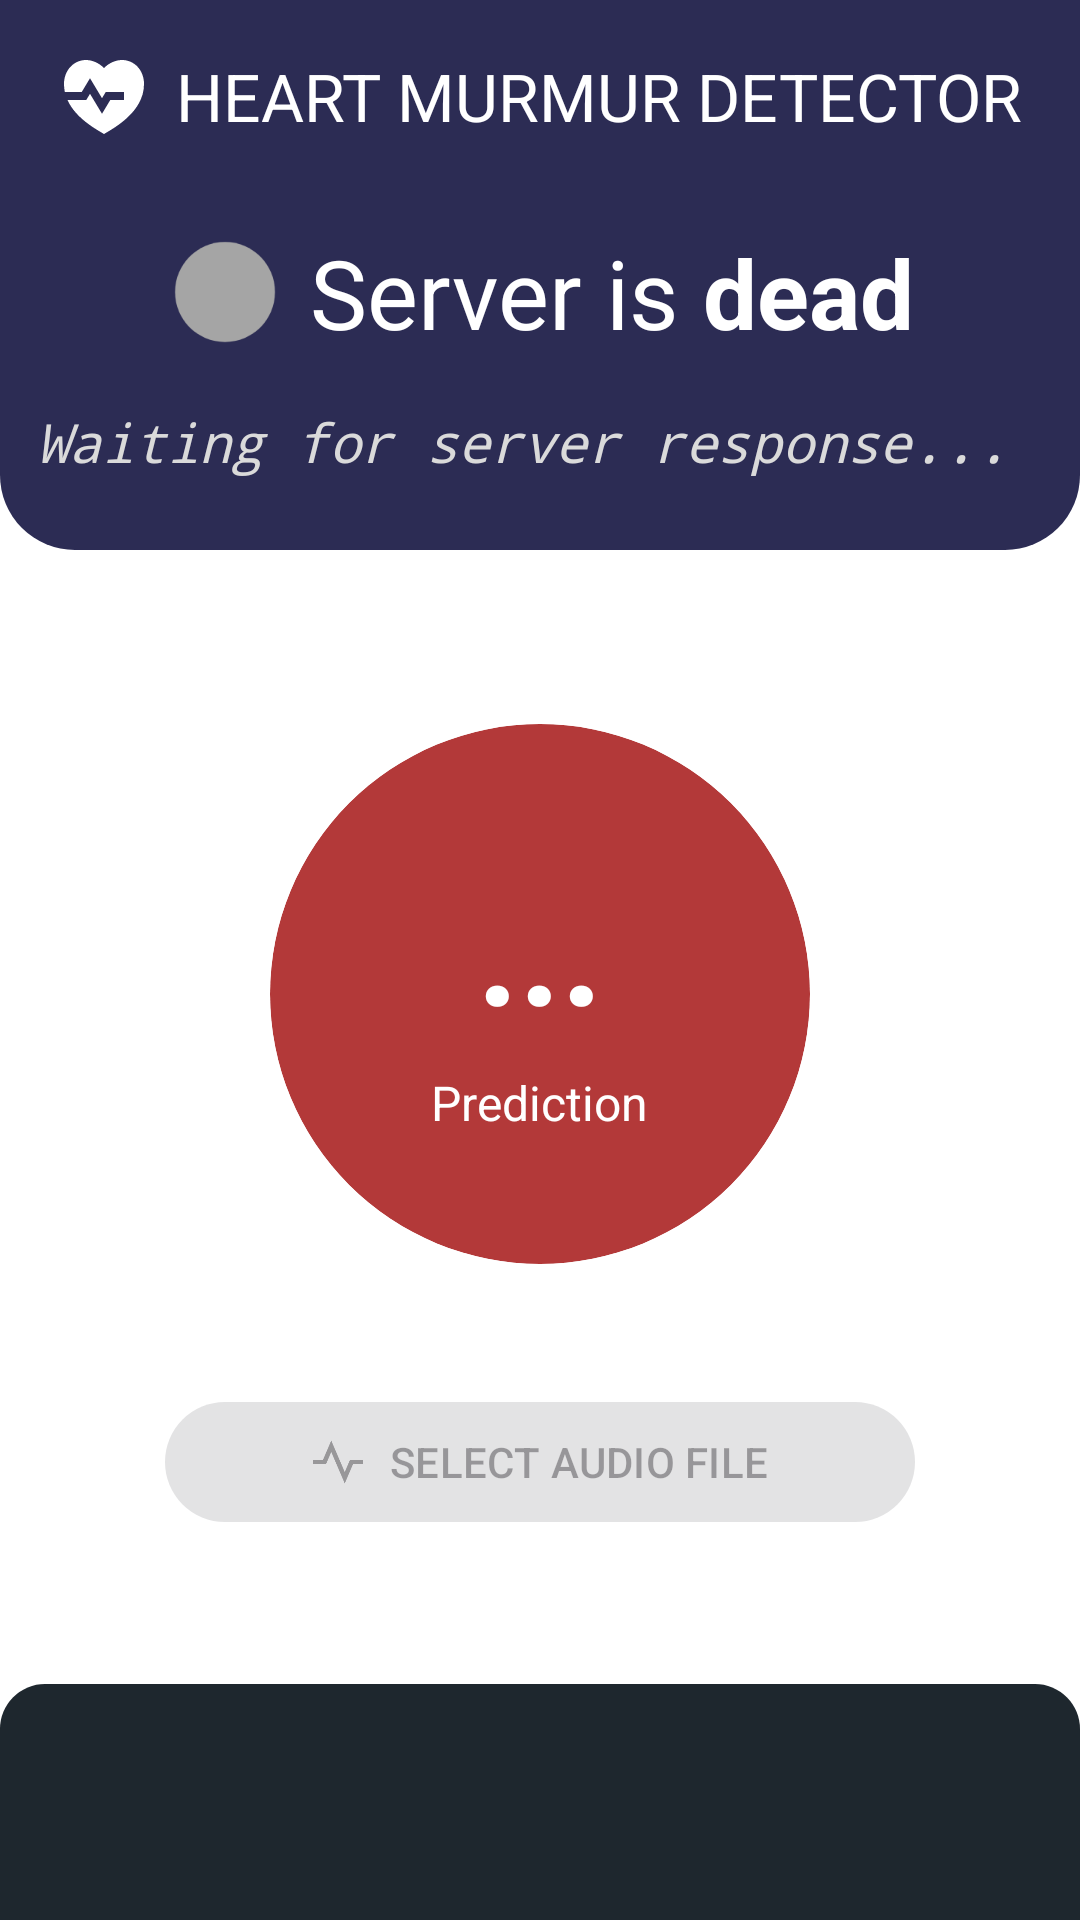

Icon click points for this 1080×1920 phone screenshot, format (x=x, y=y):
heart pulse: (x=104, y=97)
